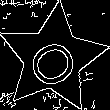O_NE: (21, 27, 85, 90)
